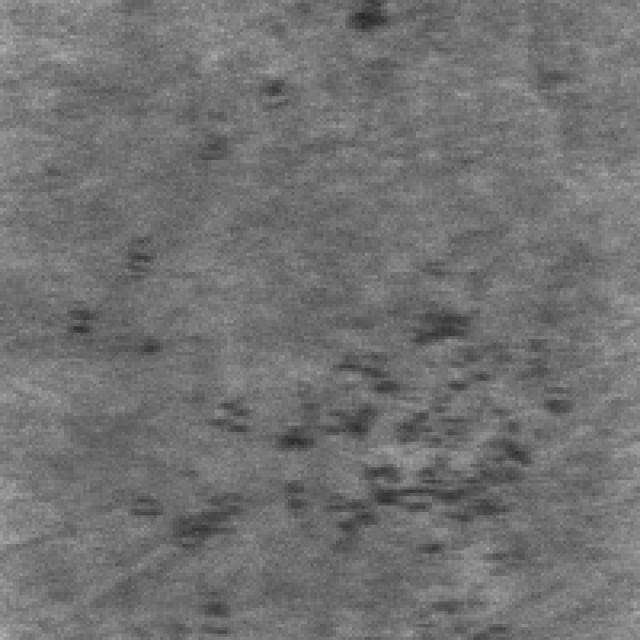rolled-in_scale: (160, 282, 570, 634)
